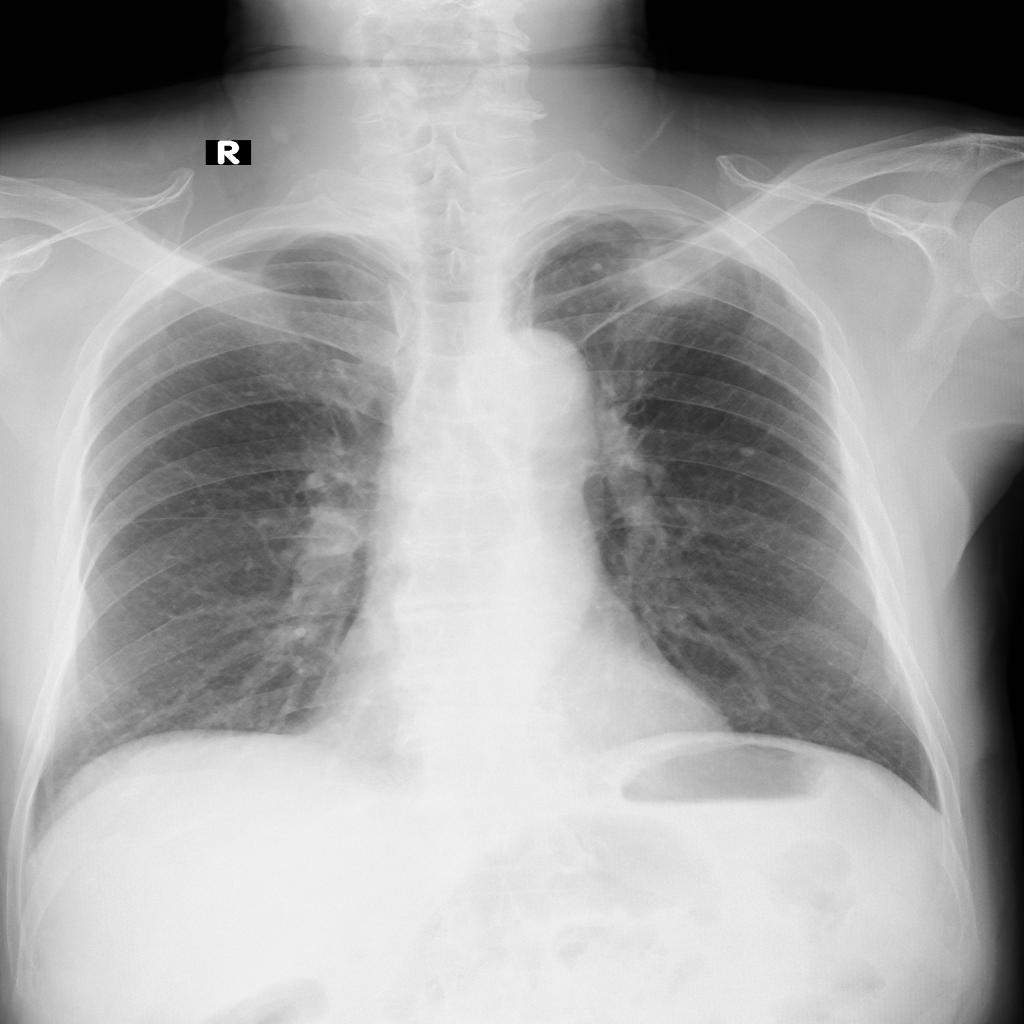Nodule: (645, 268, 706, 308), (738, 446, 756, 458), (588, 260, 604, 272)
